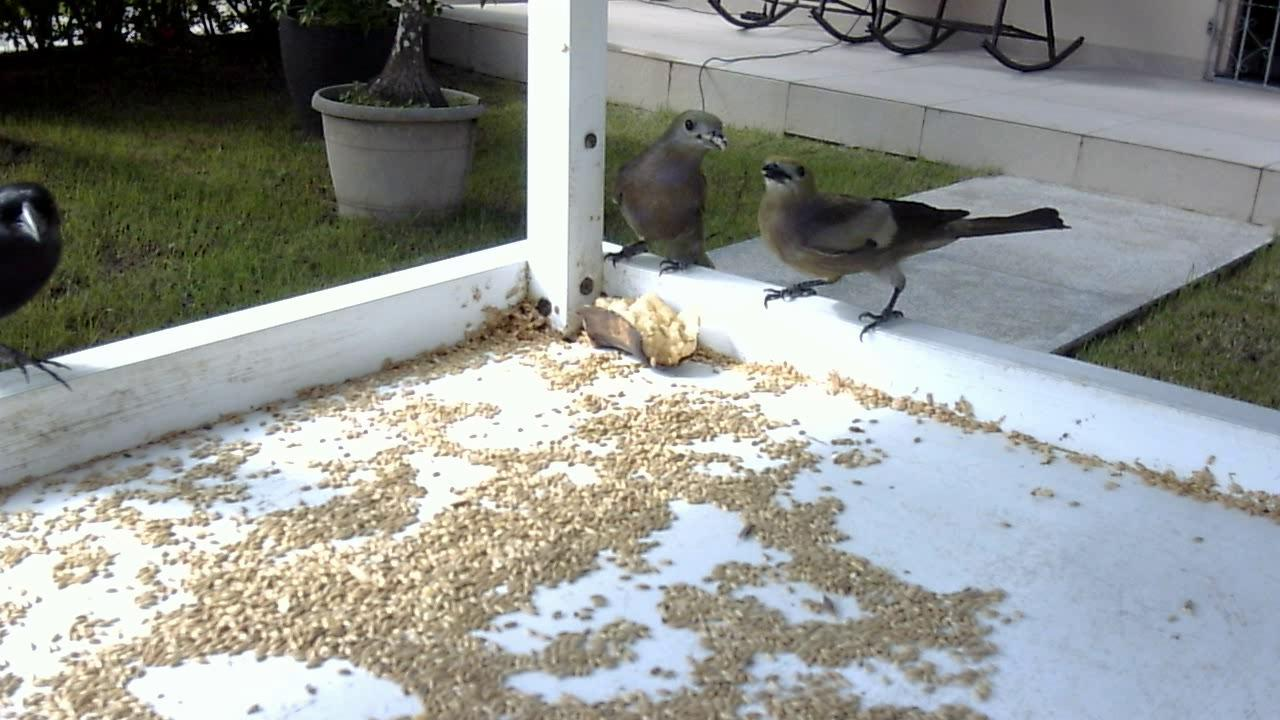chupim: (3, 176, 100, 406)
sanhaco_do_coqueiro: (742, 144, 1070, 349), (599, 107, 733, 283)
